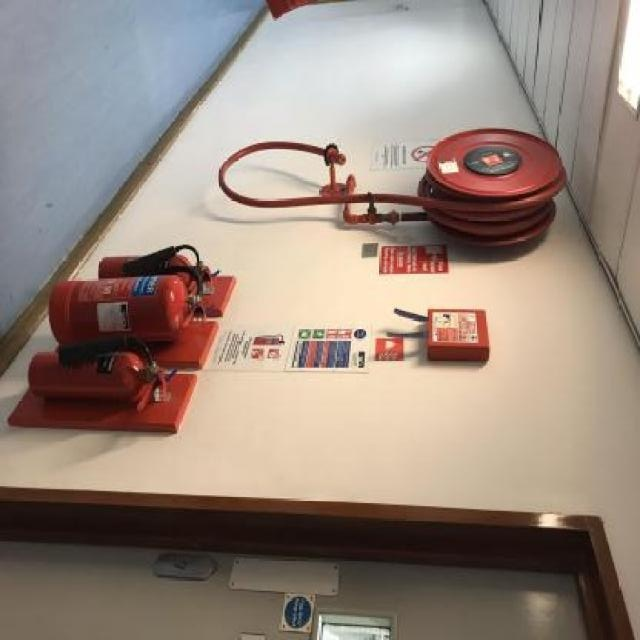fire extinguisher: (48, 264, 207, 345), (28, 335, 168, 414), (98, 245, 214, 297)
